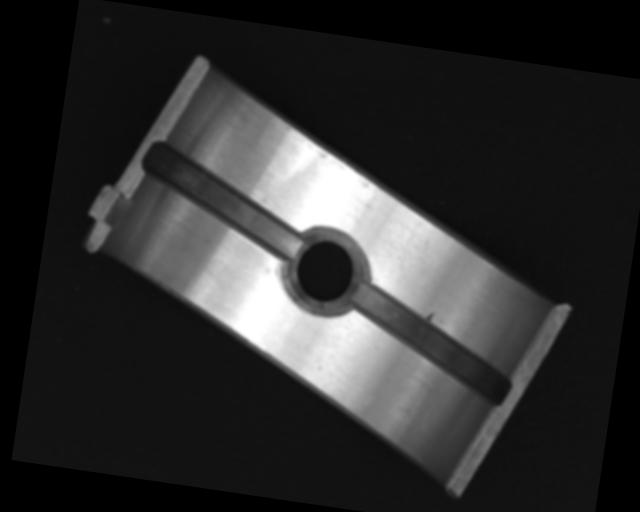bruise: (422, 309, 436, 322)
gap: (343, 280, 521, 406), (134, 140, 313, 260)
hole: (283, 225, 368, 316)
